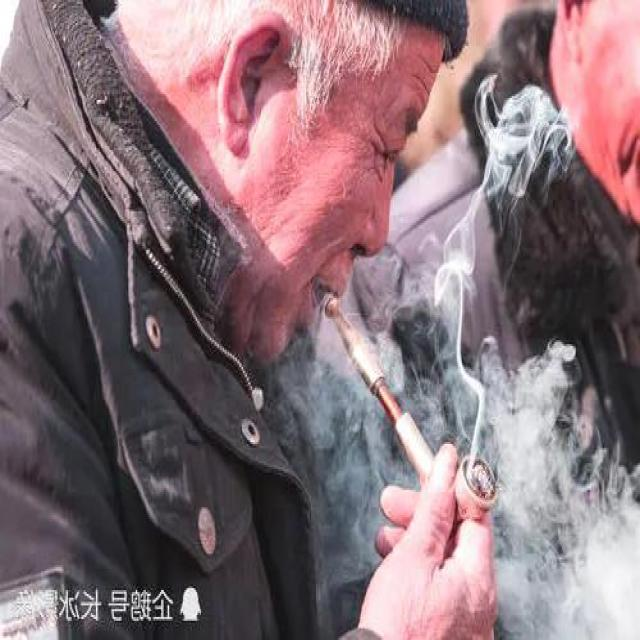smoke: (307, 258, 506, 540)
